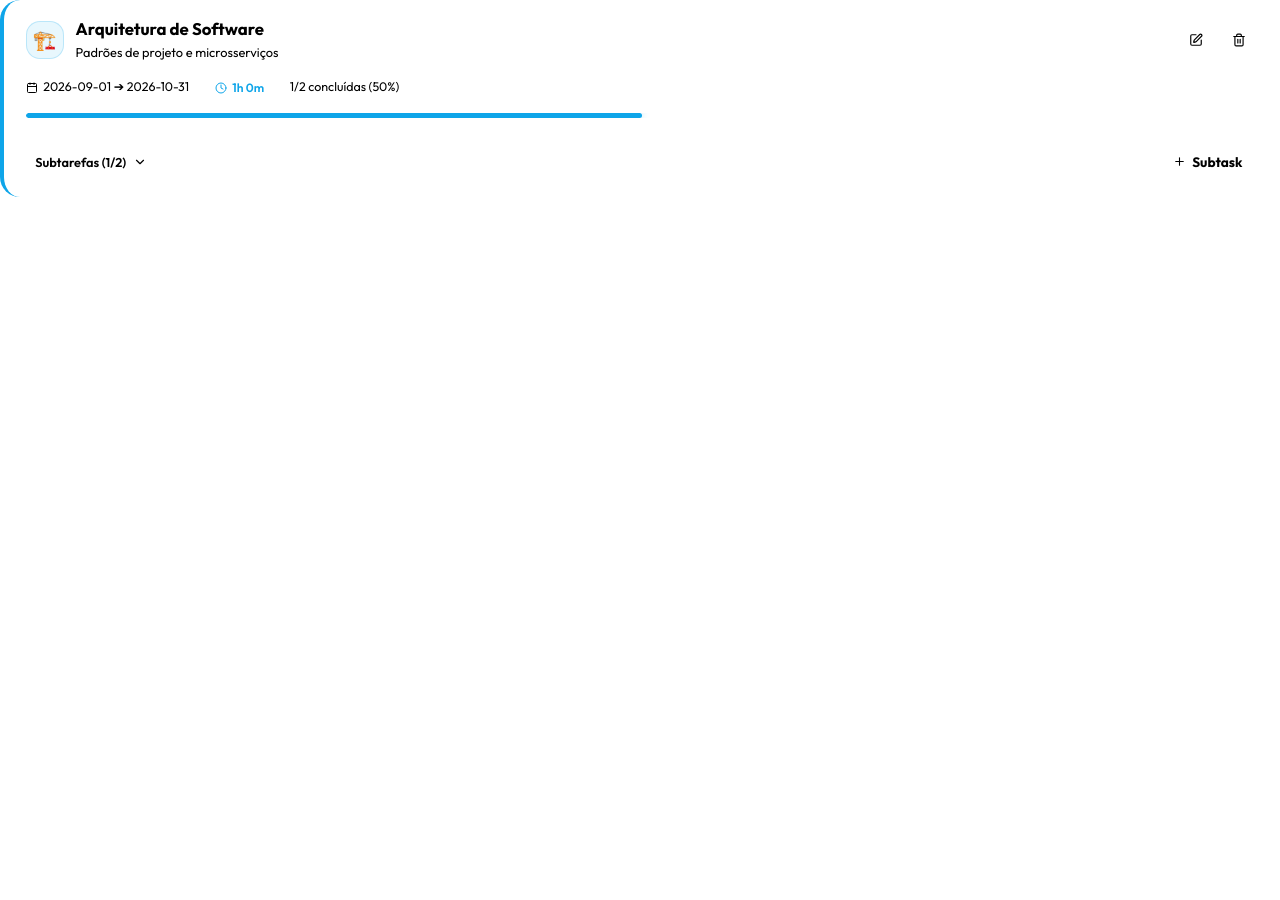
Ações de Projetos (CRUD, Confirmação Customizada e Detalhes) › deve abrir o ConfirmModal customizado ao clicar no botão de excluir (SEM usar window.confirm)
Click the button titled "Excluir Projeto" at (1239, 40), box [1220,21,1258,59]
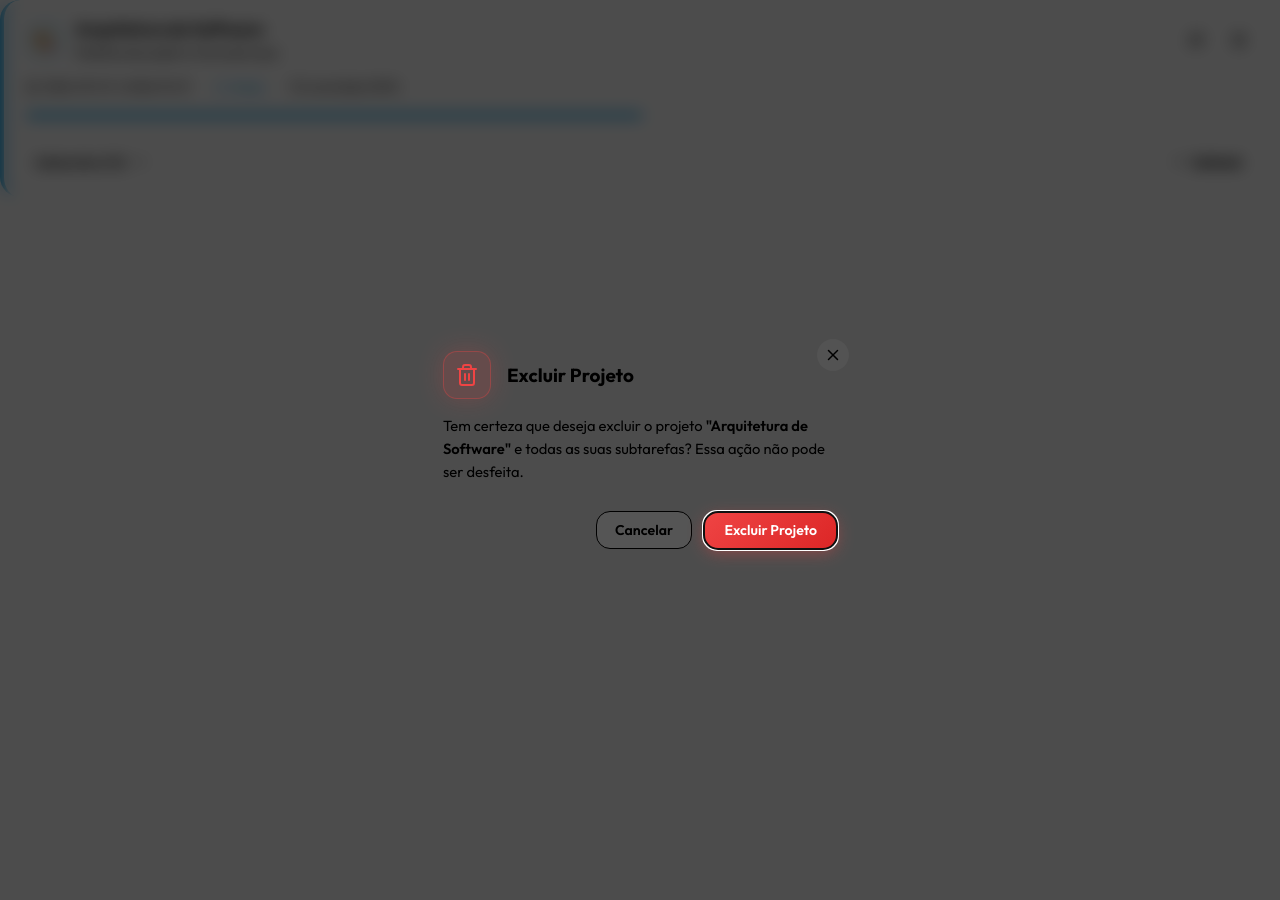
Check: the dialog with test id "confirm-modal" is shown, box [415,323,865,577]
Check: the heading "Excluir Projeto" is shown, box [507,363,634,387]
Check: the text "\"Arquitetura de Software\"" is shown, box [443,416,808,458]
